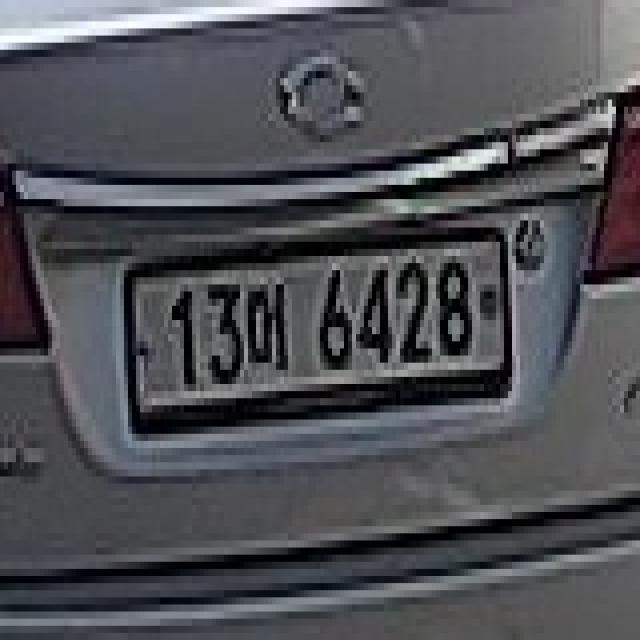1: (164, 284, 204, 406)
2: (396, 249, 432, 377)
3: (204, 270, 248, 398)
4: (356, 256, 396, 384)
6: (316, 263, 356, 377)
8: (432, 242, 484, 377)
license_plate: (120, 228, 512, 448)
meo: (244, 277, 296, 384)
